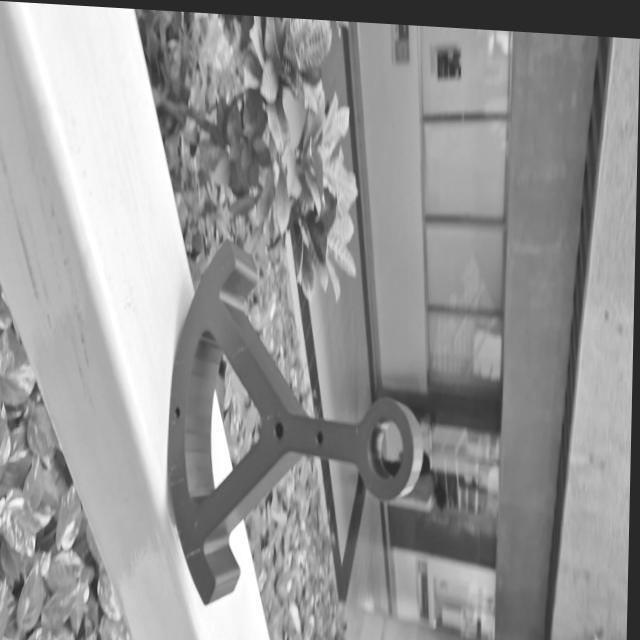haptic: (164, 232, 430, 619)
